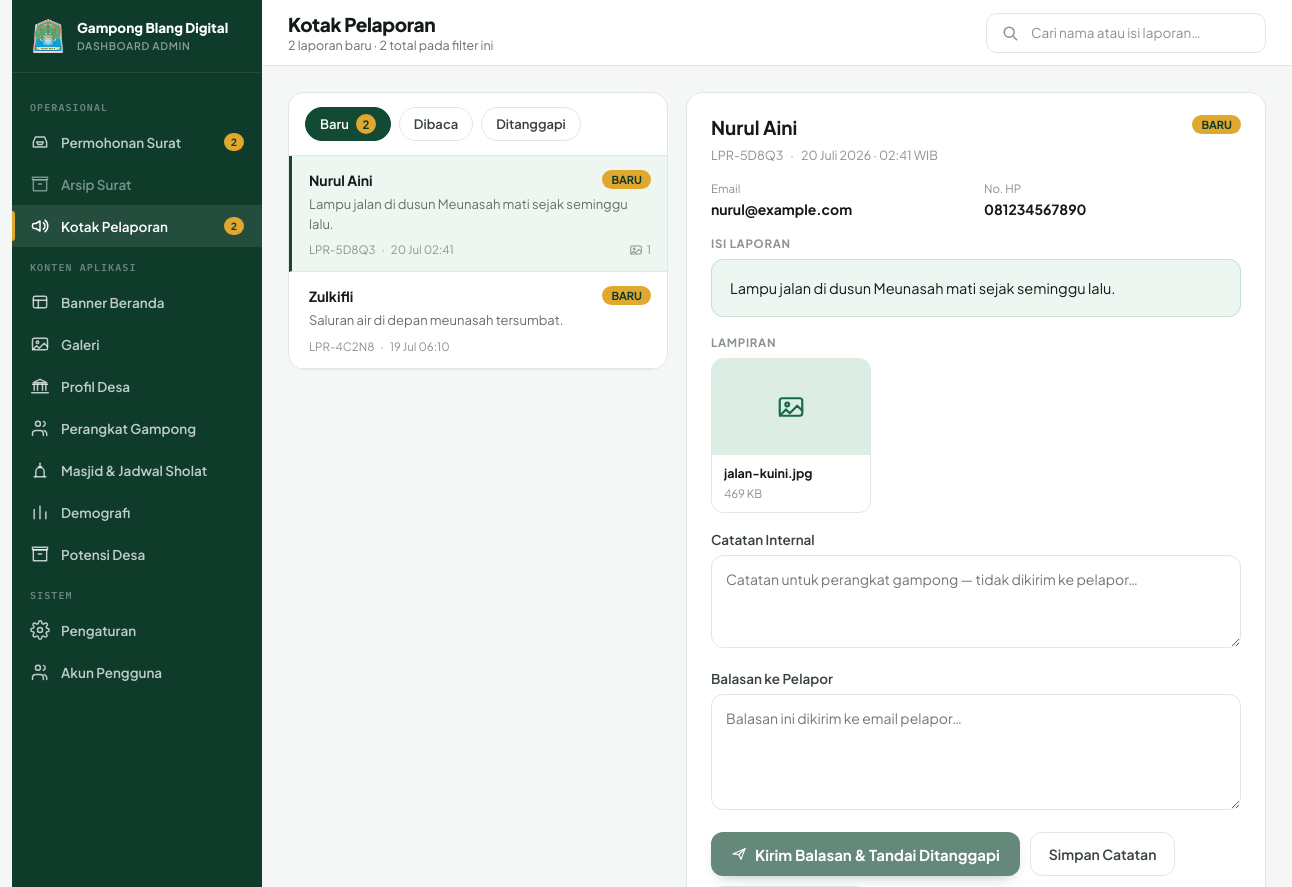
Test: feedback inbox › switches the detail pane when another report is selected
What coordinates should you click on to do the following:
click the button with aria-label "buka laporan dari zulkifli"
I would click on:
 (478, 320)
Its box is [289,272,667,368].
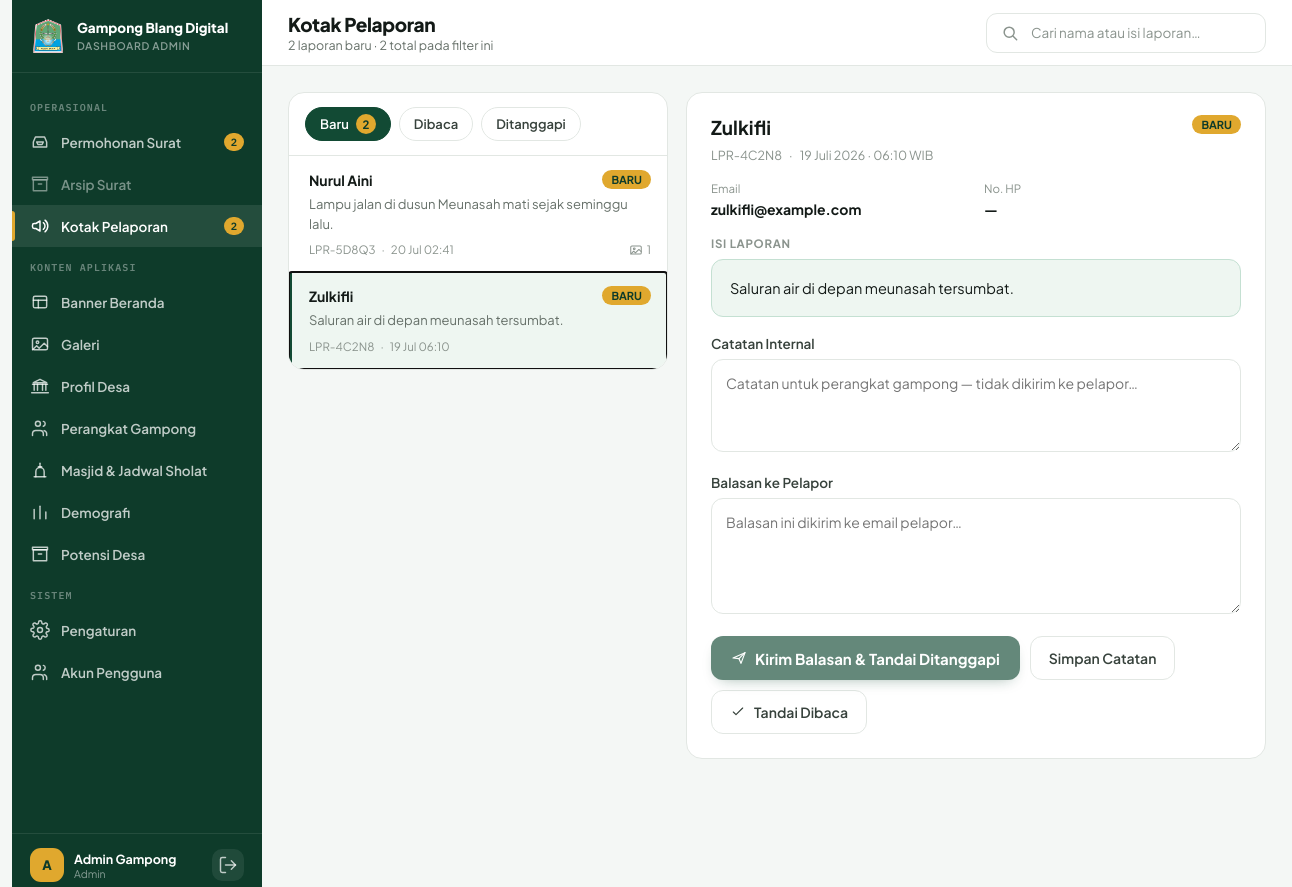
Check: the text "zulkifli@example.com" is shown, box [711,200,861,218]
